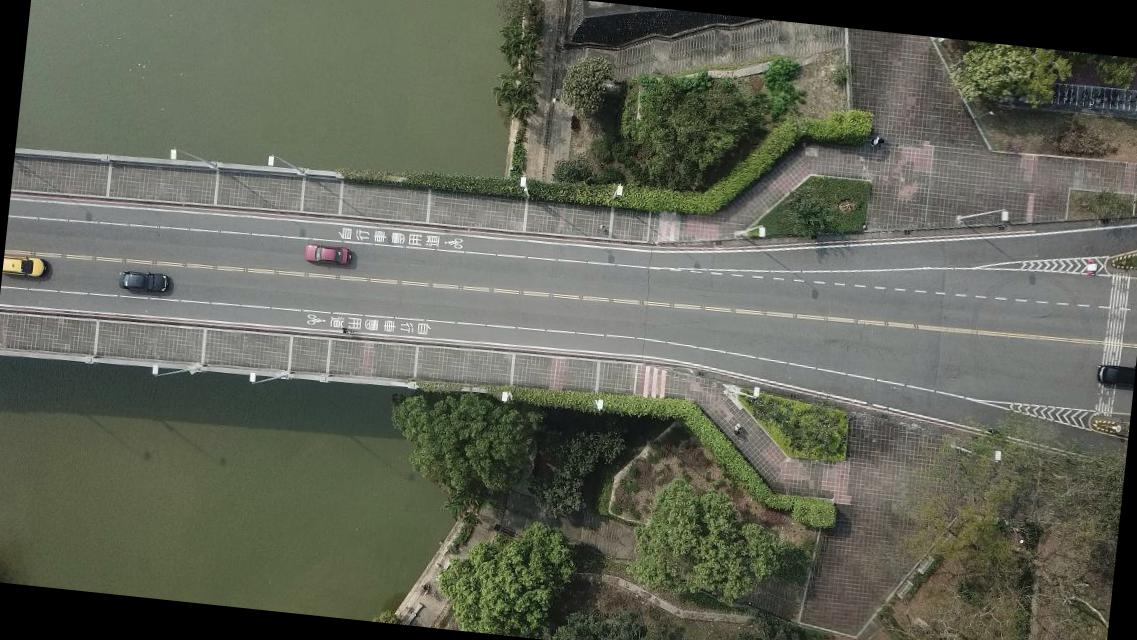vehicle: (119, 270, 170, 296), (304, 243, 352, 269), (1, 253, 46, 279), (1095, 362, 1134, 388)
